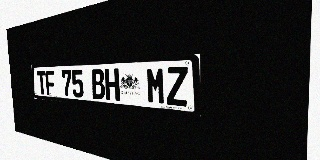5: (71, 70, 84, 98)
7: (61, 70, 73, 97)
B: (91, 69, 105, 100)
F: (45, 70, 55, 96)
H: (104, 68, 120, 101)
M: (146, 67, 166, 105)
T: (37, 71, 47, 95)
Z: (166, 66, 188, 107)
